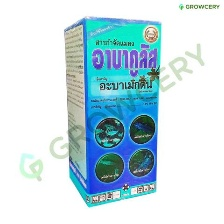carton: (59, 11, 164, 210)
